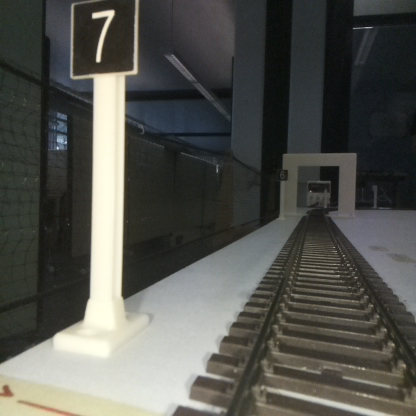black-info-6: (277, 168, 287, 216)
black-info-7: (73, 0, 134, 346)
